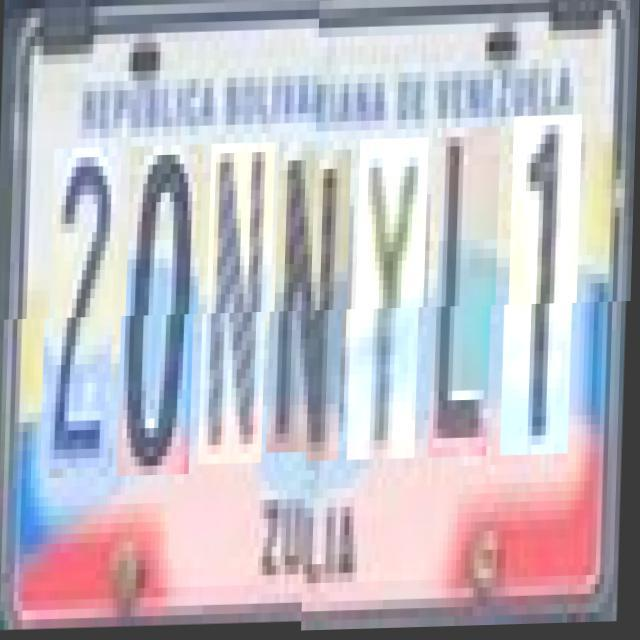1: (508, 118, 582, 458)
2: (48, 157, 122, 479)
L: (436, 130, 502, 460)
N: (273, 152, 352, 464), (206, 153, 276, 474)
O: (124, 155, 204, 486)
Y: (354, 140, 430, 462)
